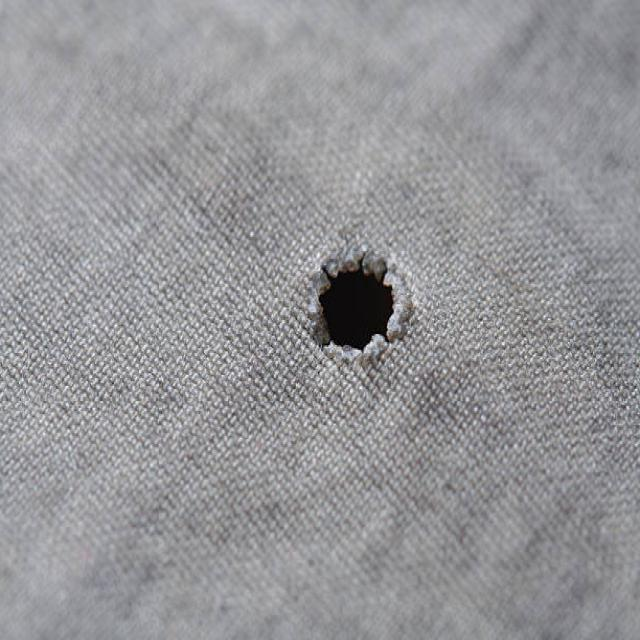Hole: (307, 244, 413, 366)
